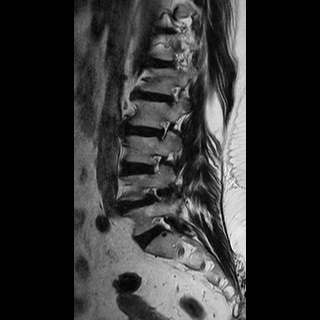RFS1: (152, 113, 173, 146)
